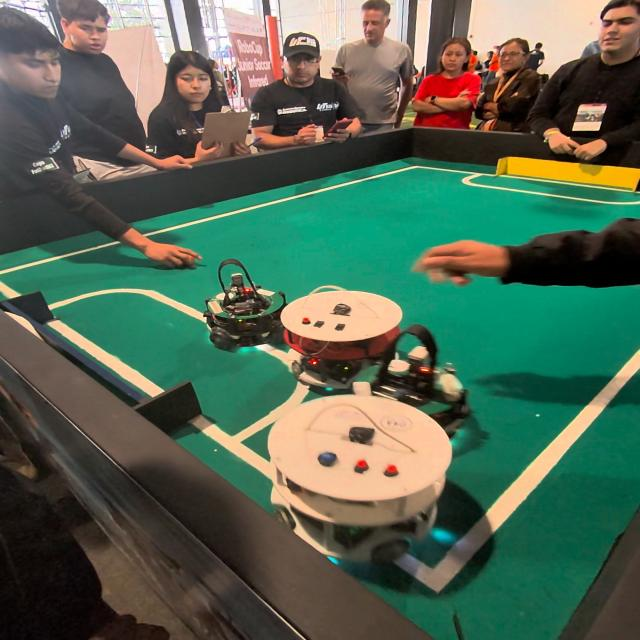Robot: (263, 392, 460, 569), (281, 269, 408, 397), (368, 319, 474, 442), (202, 256, 286, 355)
